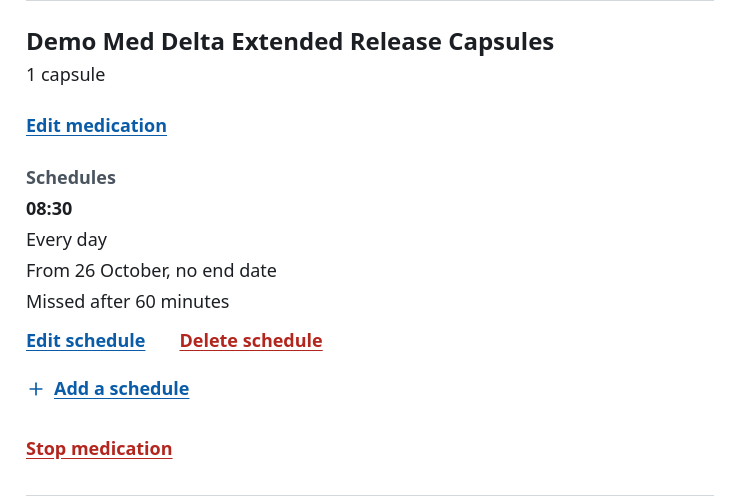
Test: Schedules › edits a schedule that has no recorded doses
The width and height of the screenshot is (736, 499).
(page scrolled)
Step 1. Click the button "Edit schedule" → (86, 341), box [16,319,156,363]
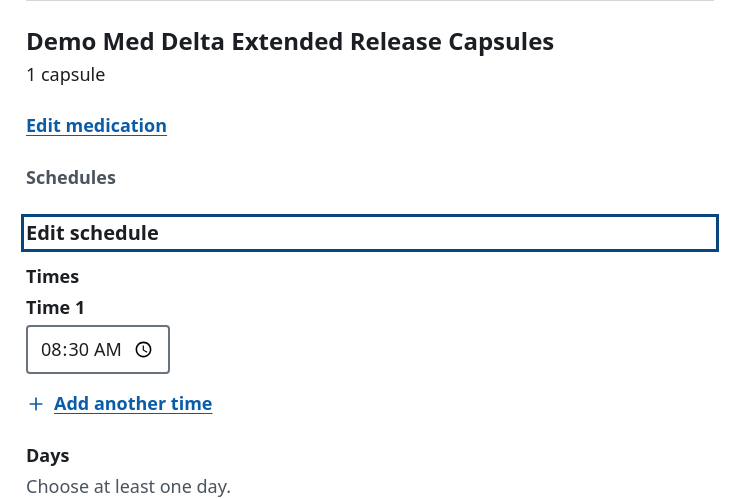
Step 2. Replace the text in the time field labelled "Time 1" with "09:00" → (98, 349), box [26,325,170,374]
(page scrolled)
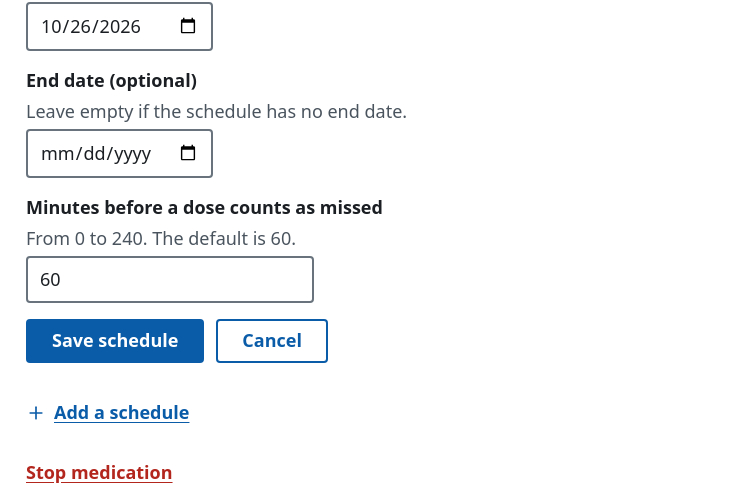
Step 3. Click the button "Save schedule" → (115, 341), box [26,319,204,363]
(page scrolled)
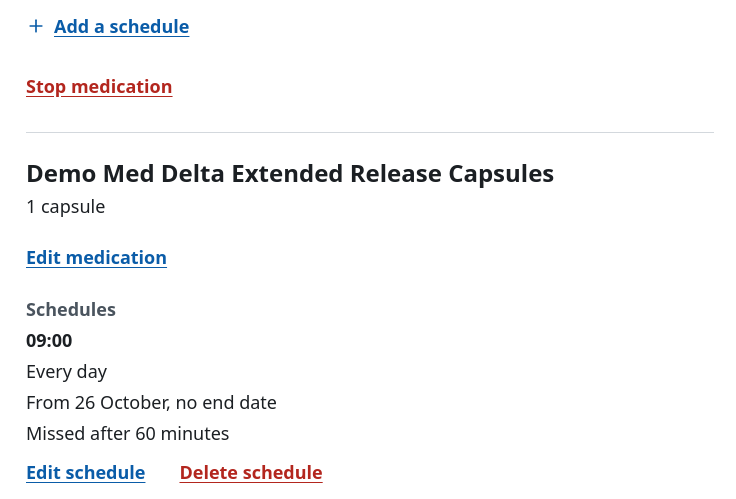
Check: the text "09:00" is shown, box [26,328,72,352]
